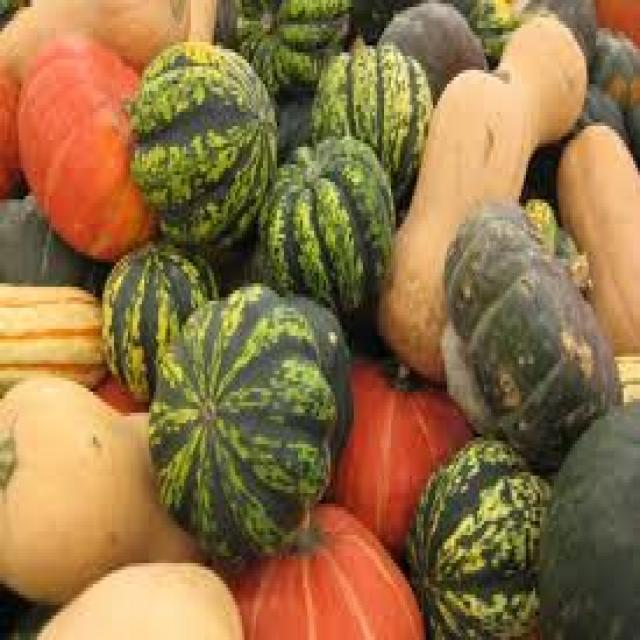organic waste: (146, 280, 332, 560), (438, 192, 619, 472), (0, 367, 207, 605), (372, 63, 526, 378), (126, 35, 277, 245), (328, 353, 470, 563), (16, 35, 156, 248), (410, 437, 549, 637), (228, 496, 424, 636), (535, 395, 638, 637), (254, 133, 393, 308), (307, 31, 431, 196), (556, 119, 638, 350), (0, 0, 188, 94), (104, 252, 218, 395), (35, 560, 240, 636), (277, 290, 349, 469), (491, 10, 582, 147), (0, 279, 105, 392), (214, 0, 349, 87), (372, 0, 487, 91), (0, 185, 100, 287), (466, 0, 591, 42), (584, 21, 638, 105), (512, 0, 596, 52), (566, 80, 622, 147), (270, 80, 312, 161), (0, 56, 21, 192), (90, 367, 146, 409), (522, 189, 556, 255), (591, 0, 637, 45), (554, 224, 584, 276), (612, 346, 638, 399), (183, 0, 214, 38), (624, 91, 638, 161)
